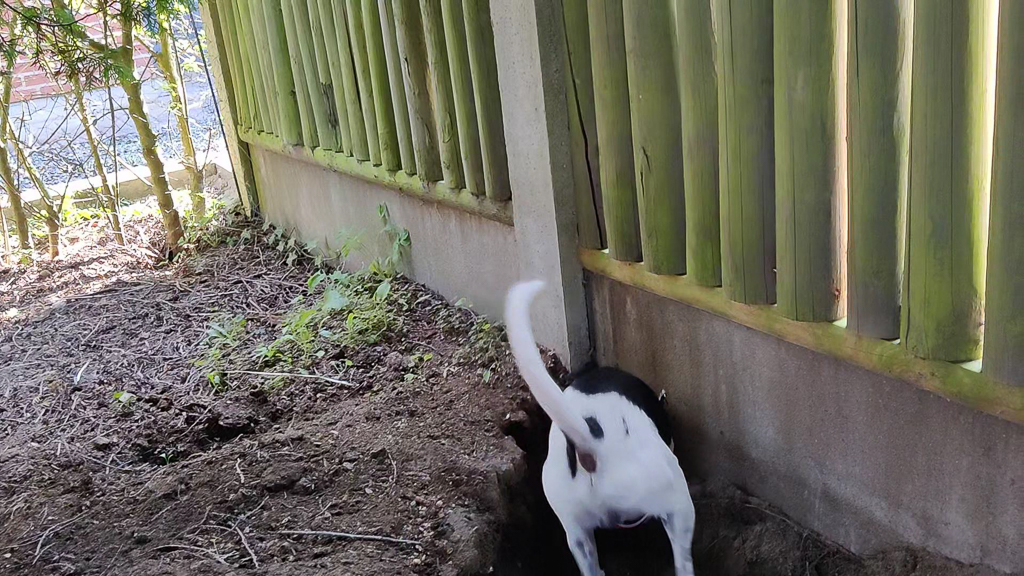Dog: (481, 265, 725, 576)
